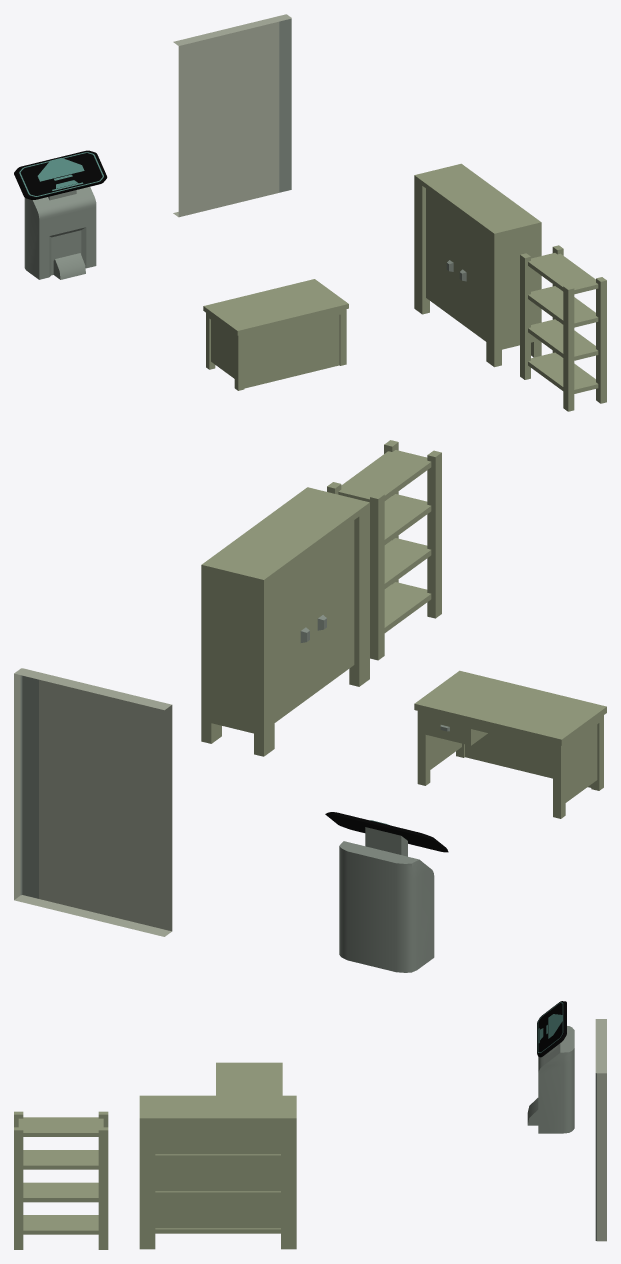
The model's file is room-furniture.glb.
3 renders of one model, top to bottom at view 1: azimuth 30°, elevation 25°; view 2: azimuth 150°, elevation 25°; view 3: azimuth 270°, elevation 25°, orthographic. The views are drawn at different scales.
Parts seen in each view (by area): view 1: Door_Metal, desk(Clone), bookcaseClosedDoors(Clone), bookcaseOpen(Clone), Prop_Computer, doorLeft, doorRight; view 2: Door_Metal, bookcaseClosedDoors(Clone), desk(Clone), Prop_Computer, bookcaseOpen(Clone), doorRight, doorLeft; view 3: bookcaseClosedDoors(Clone), bookcaseOpen(Clone), Prop_Computer, Door_Metal, desk(Clone).
Part boxes in pixels (x1=…): Door_Metal: x1=173, y1=14, x2=291, y2=217; desk(Clone): x1=203, y1=279, x2=348, y2=390; bookcaseClosedDoors(Clone): x1=414, y1=163, x2=541, y2=367; bookcaseOpen(Clone): x1=520, y1=245, x2=606, y2=411; Prop_Computer: x1=14, y1=150, x2=107, y2=279; doorLeft: x1=426, y1=188, x2=457, y2=318; doorRight: x1=458, y1=212, x2=486, y2=339; Door_Metal: x1=14, y1=668, x2=172, y2=936; bookcaseClosedDoors(Clone): x1=201, y1=487, x2=369, y2=756; desk(Clone): x1=414, y1=670, x2=606, y2=818; Prop_Computer: x1=325, y1=812, x2=448, y2=972; bookcaseOpen(Clone): x1=327, y1=440, x2=441, y2=660; doorRight: x1=312, y1=520, x2=354, y2=692; doorLeft: x1=274, y1=551, x2=311, y2=719; bookcaseClosedDoors(Clone): x1=139, y1=1095, x2=296, y2=1249; bookcaseOpen(Clone): x1=14, y1=1111, x2=108, y2=1249; Prop_Computer: x1=527, y1=1001, x2=574, y2=1133; Door_Metal: x1=595, y1=1019, x2=606, y2=1241; desk(Clone): x1=216, y1=1062, x2=282, y2=1095.
Size of the model in its own units: 5.65 by 2.95 by 9.44.
